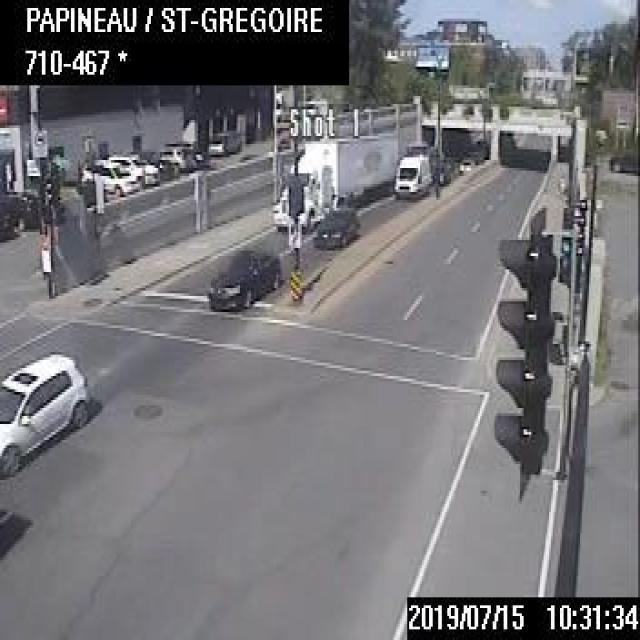vehicle: (269, 120, 399, 233), (0, 350, 91, 478), (204, 240, 282, 309), (80, 156, 140, 198), (311, 206, 359, 250), (392, 150, 431, 200), (108, 150, 158, 188), (0, 190, 38, 230), (158, 141, 199, 172), (137, 150, 176, 182), (208, 128, 240, 152), (430, 155, 452, 183), (0, 211, 13, 240), (457, 155, 475, 175)
